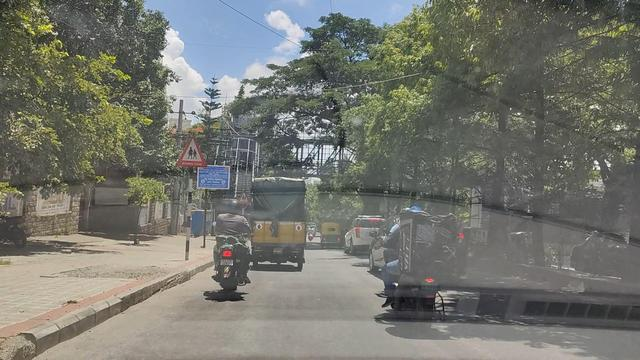HMV: (246, 179, 309, 274)
